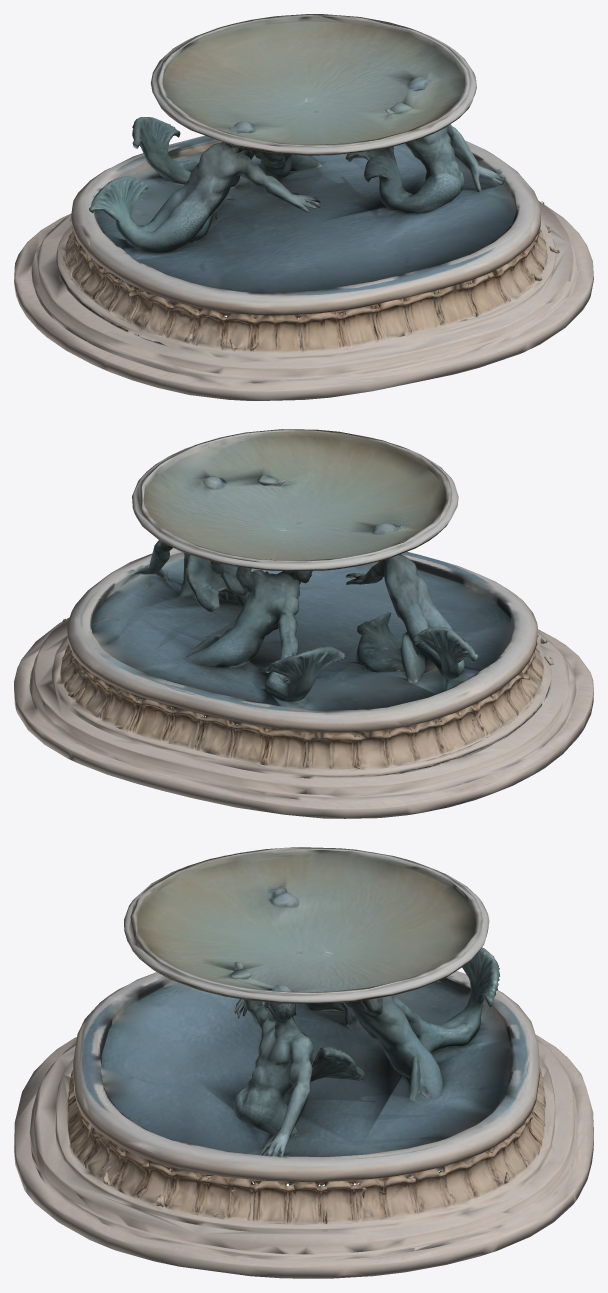
The model's file is triton-BXuLHuQv.glb.
The picture shows the model from 3 angles, top to bottom: view 1: azimuth 30°, elevation 25°; view 2: azimuth 150°, elevation 25°; view 3: azimuth 270°, elevation 25°; orthographic projection. The views are drawn at different scales.
Visible parts, largest first — view 1: node_0; view 2: node_0; view 3: node_0.
Part boxes in pixels (box(x1,y1,x2,y2)): node_0: box(14, 14, 593, 400); node_0: box(14, 429, 593, 818); node_0: box(14, 847, 593, 1278).
Bounding box in the file's own units: 1.1 × 0.4237 × 0.9882.
1 material, 1 textured.
